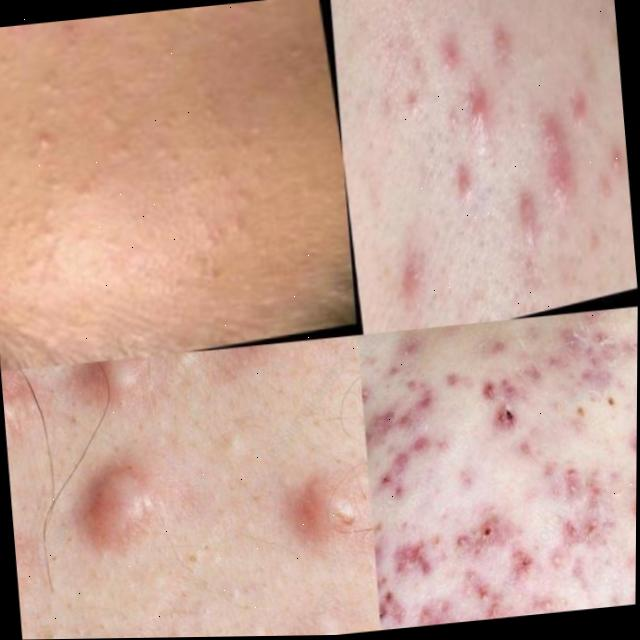Acne: (5, 412, 382, 636), (357, 354, 637, 630), (0, 6, 220, 280), (393, 74, 566, 271)
